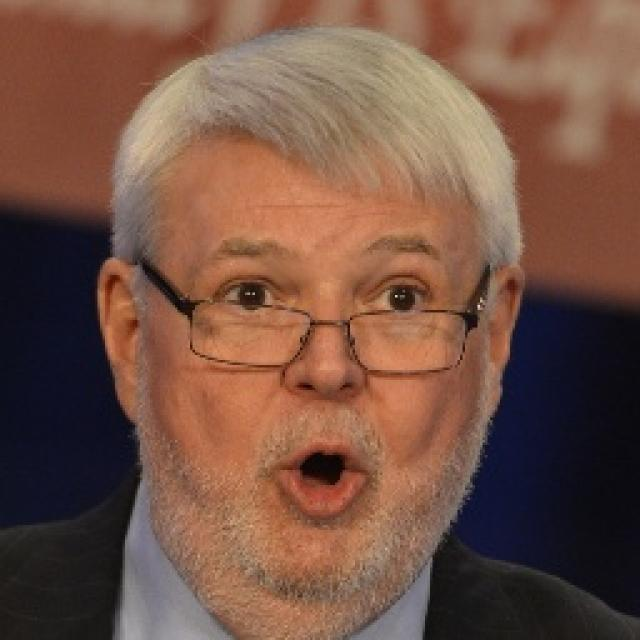earlobe: (94, 258, 144, 426), (483, 264, 524, 419)
